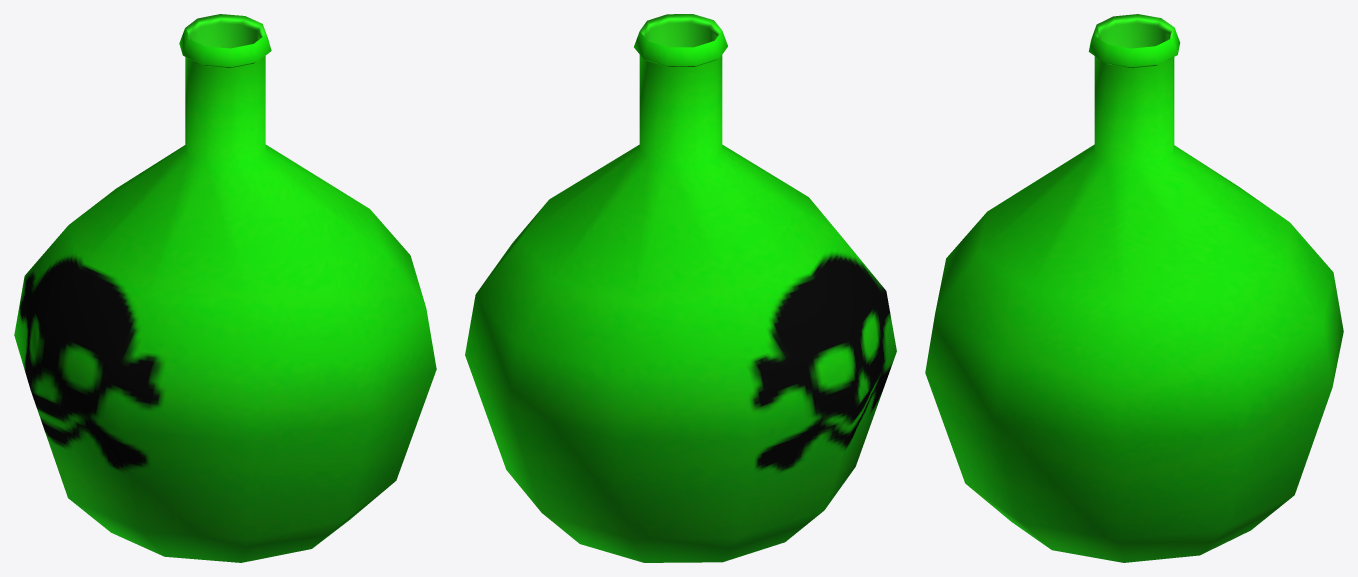
The model's file is Poison Potion.fbx.
3 renders of one model, left to right at view 1: azimuth 30°, elevation 25°; view 2: azimuth 150°, elevation 25°; view 3: azimuth 270°, elevation 25°, orthographic.
Parts seen in each view (by area): view 1: Poison_Potion_Bottle; view 2: Poison_Potion_Bottle; view 3: Poison_Potion_Bottle.
Boxes of the visible parts, <box> form: Poison_Potion_Bottle: <box>14,14,436,562</box>; Poison_Potion_Bottle: <box>465,14,896,562</box>; Poison_Potion_Bottle: <box>925,14,1343,562</box>.
Bounding box in the file's own units: 0.00705 × 0.00869 × 0.00689.
